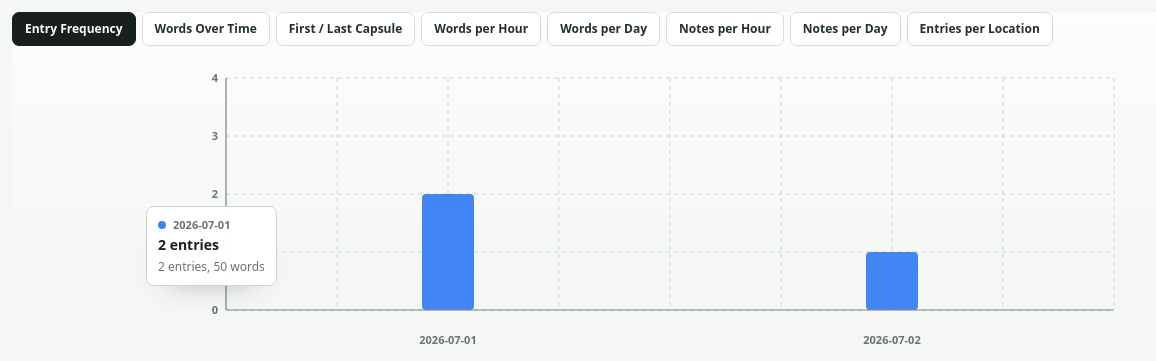
Test case: ActivityTrends › shows mouse-follow tooltips for bars and line points
The image size is (1156, 361).
Expected: the element with class "activity-hit-target" is shown, [226,78,670,310]
Expected: the tooltip shows "2026-07-01", [173,217,230,232]
What coordinates should you click on to do the following:
click the tab "Words Over Time"
I would click on:
 (206, 29)
Its box is [142,12,270,46].
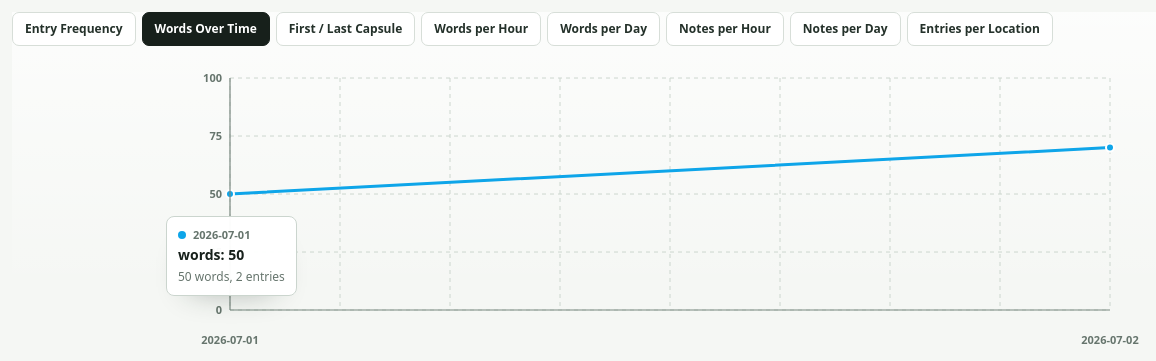
Expected: the tooltip shows "2026-07-01", [193,227,250,242]
Expected: the tooltip shows "words: 50", [178,245,244,264]
